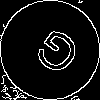G: (25, 25, 84, 86)
